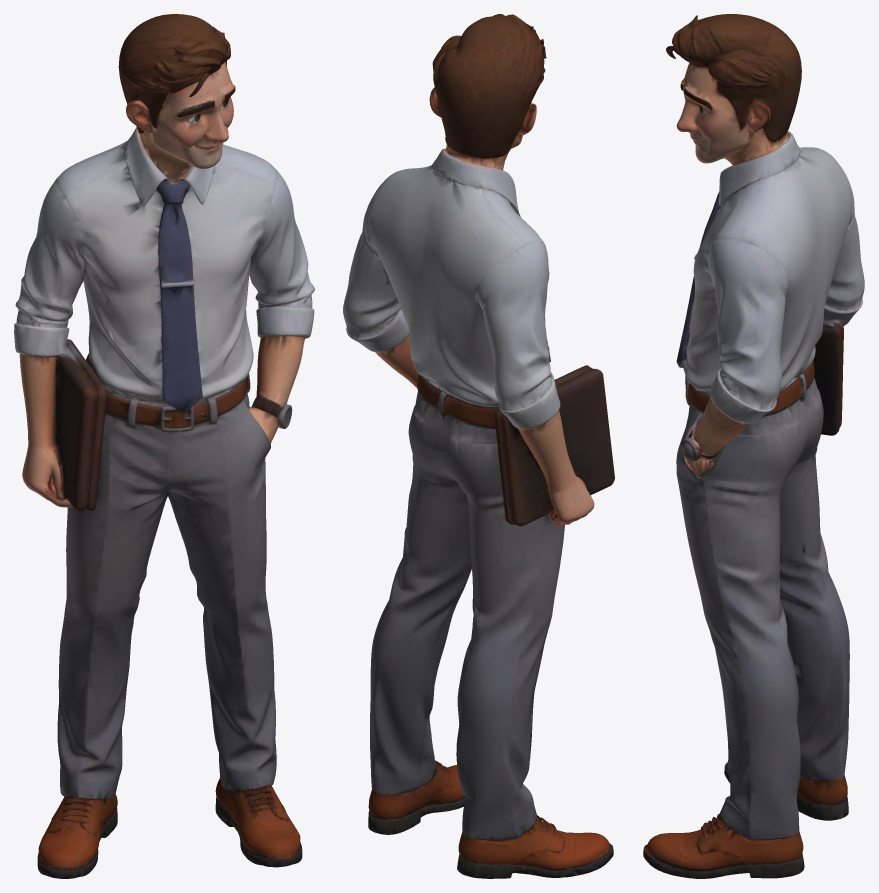
The model's file is character.glb.
3 views of the same model, side by side, from view 1: azimuth 30°, elevation 25°; view 2: azimuth 150°, elevation 25°; view 3: azimuth 270°, elevation 25° (orthographic). The views are drawn at different scales.
Parts seen in each view (by area): view 1: material; view 2: material; view 3: material.
Part boxes in pixels (x1,y1,x2,y2): material: (14,14,314,878); material: (343,14,614,878); material: (643,14,864,878).
Size of the model in its own units: 0.3862 by 1.14 by 0.2821.
1 material, 1 textured.
